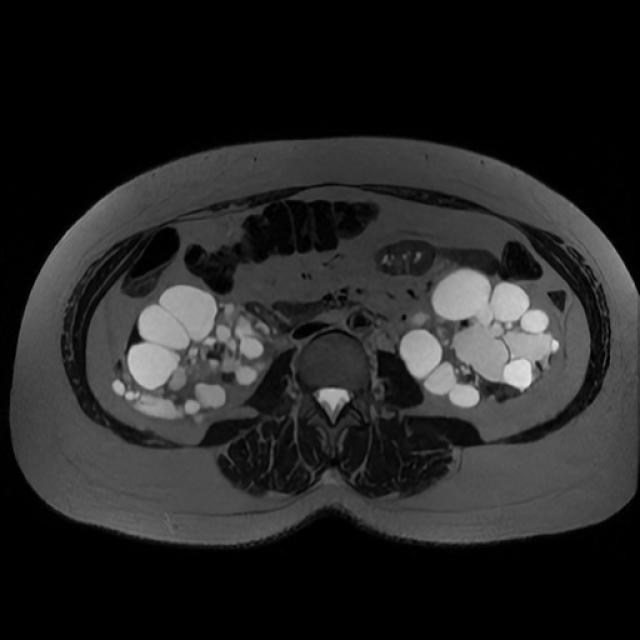sag: (112, 284, 275, 422)
sol: (398, 267, 562, 411)
